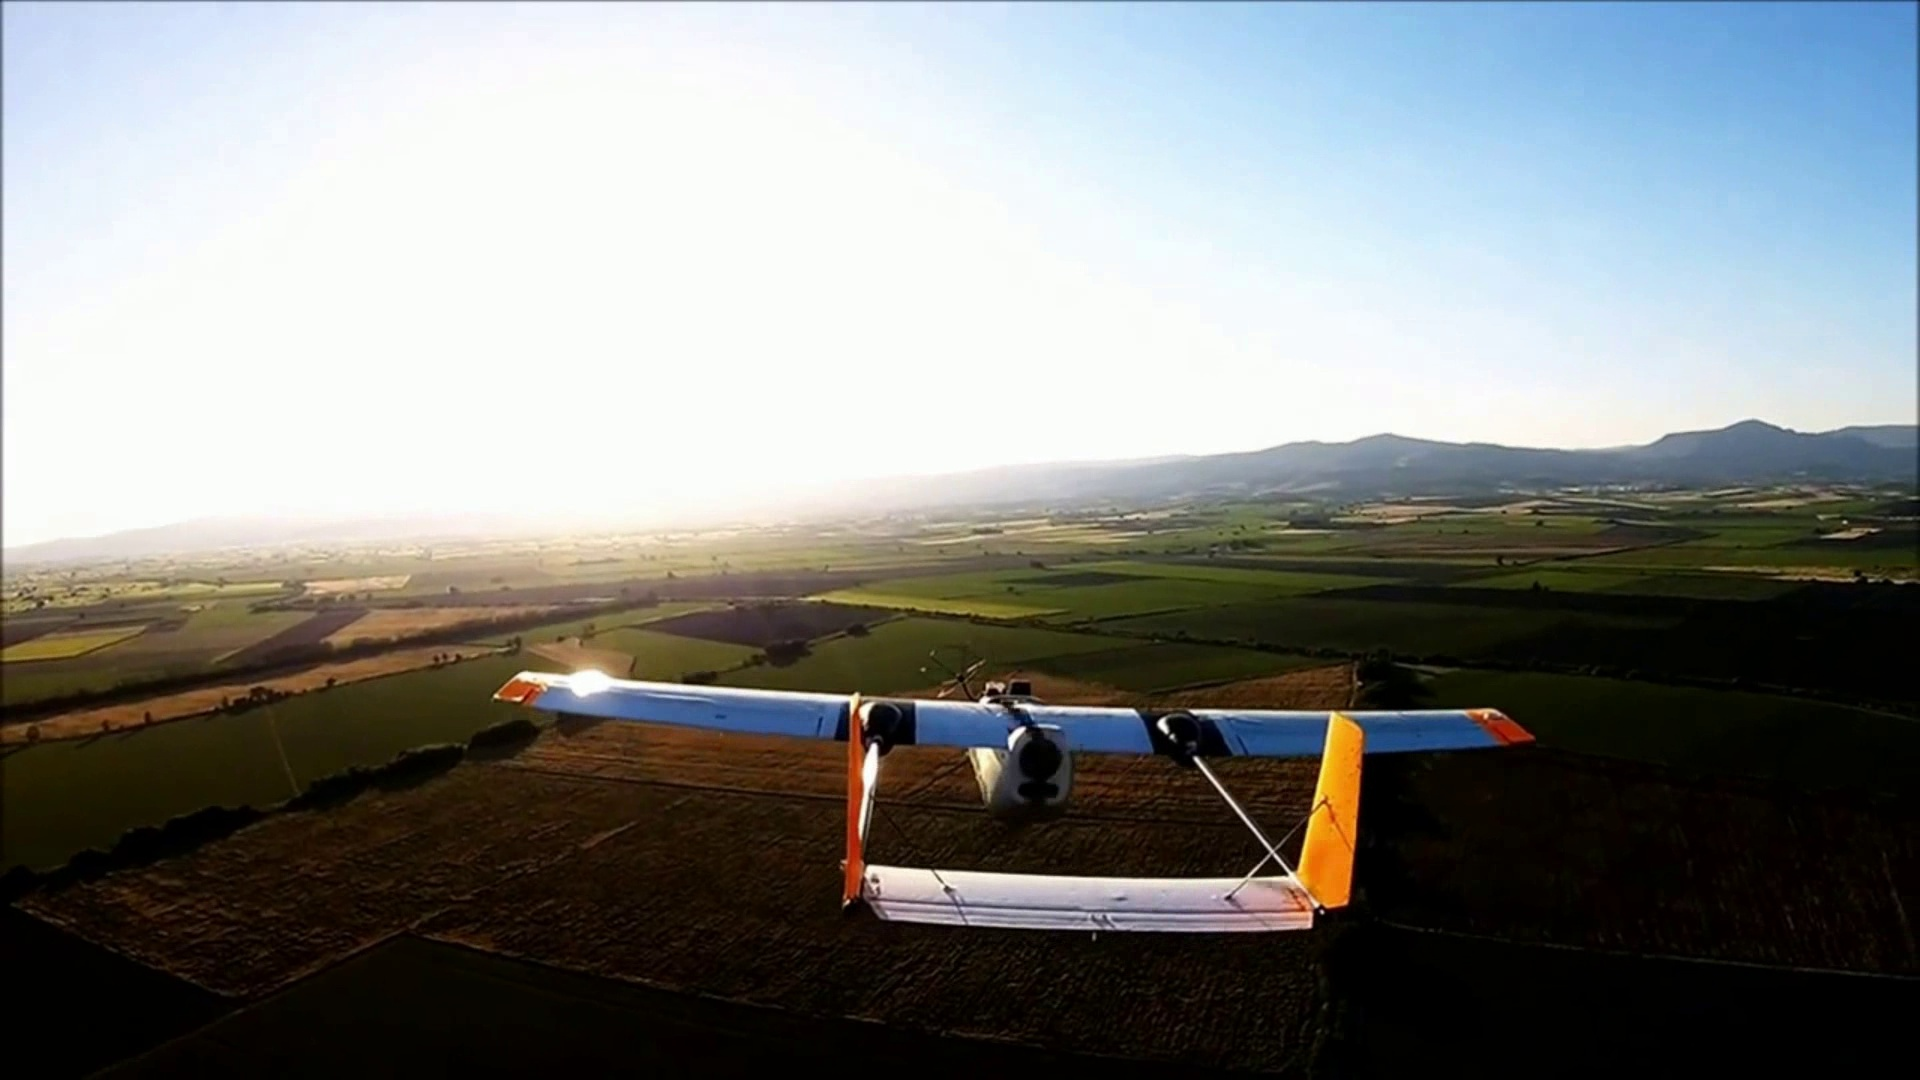airplane: (491, 669, 1539, 938)
